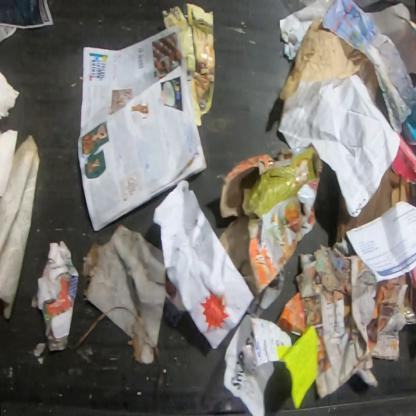cardboard: (216, 145, 324, 297), (336, 165, 415, 242), (391, 134, 416, 187)
